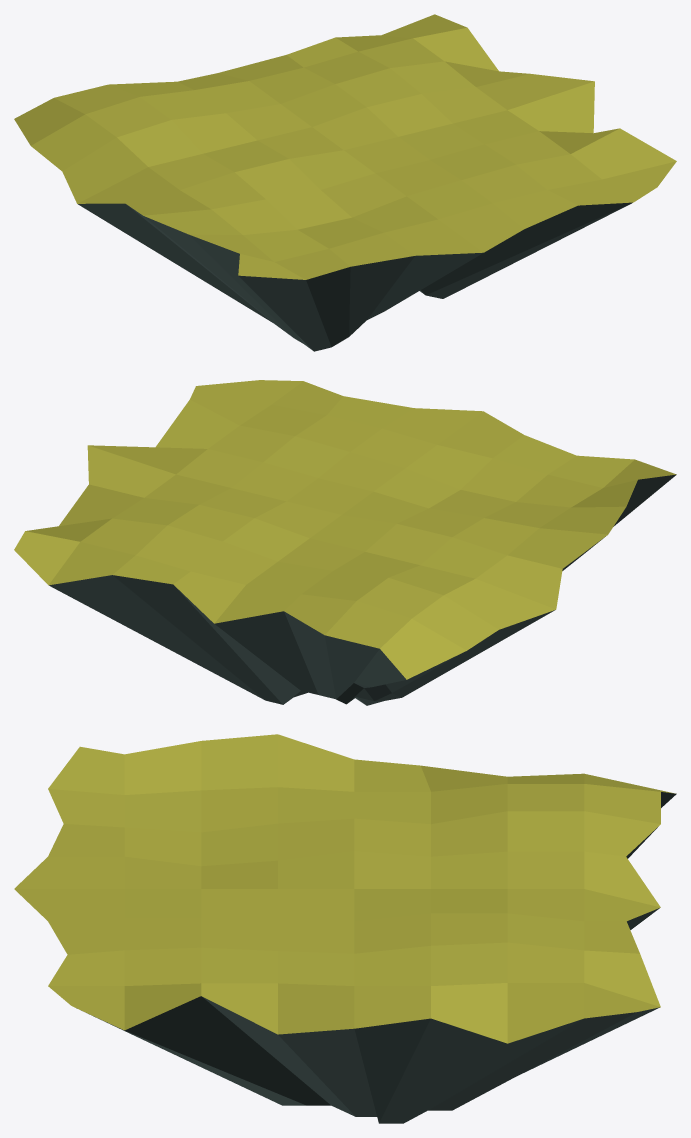
File: Island_0_0.fbx
3 views of the same model, one above another, from view 1: azimuth 30°, elevation 25°; view 2: azimuth 150°, elevation 25°; view 3: azimuth 270°, elevation 25° (orthographic). The views are drawn at different scales.
Parts seen in each view (by area): view 1: Island; view 2: Island; view 3: Island.
Boxes of the visible parts, bbox=[...] form: Island: bbox=[14, 14, 676, 351]; Island: bbox=[14, 380, 676, 705]; Island: bbox=[14, 734, 676, 1123].
Bounding box in the file's own units: 1904 × 701 × 1834.
